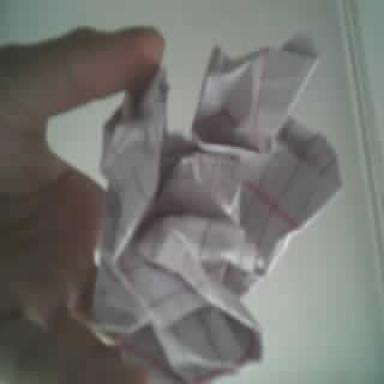paper: (92, 38, 341, 382)
